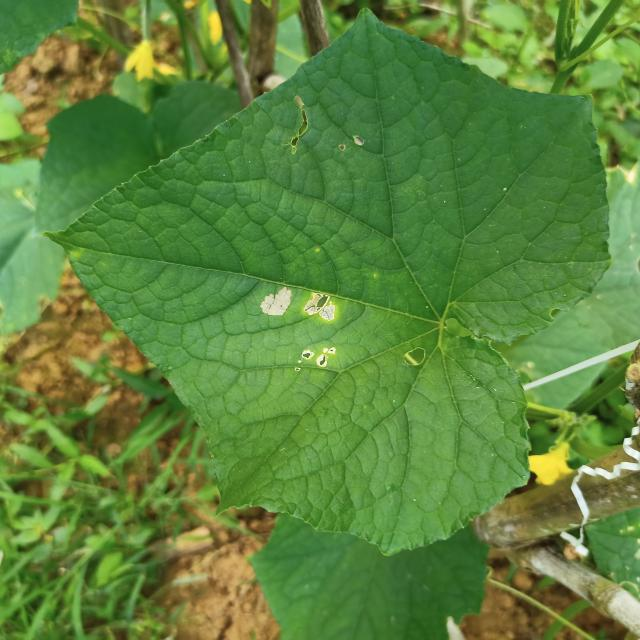disease_cucumber: (256, 282, 342, 374)
